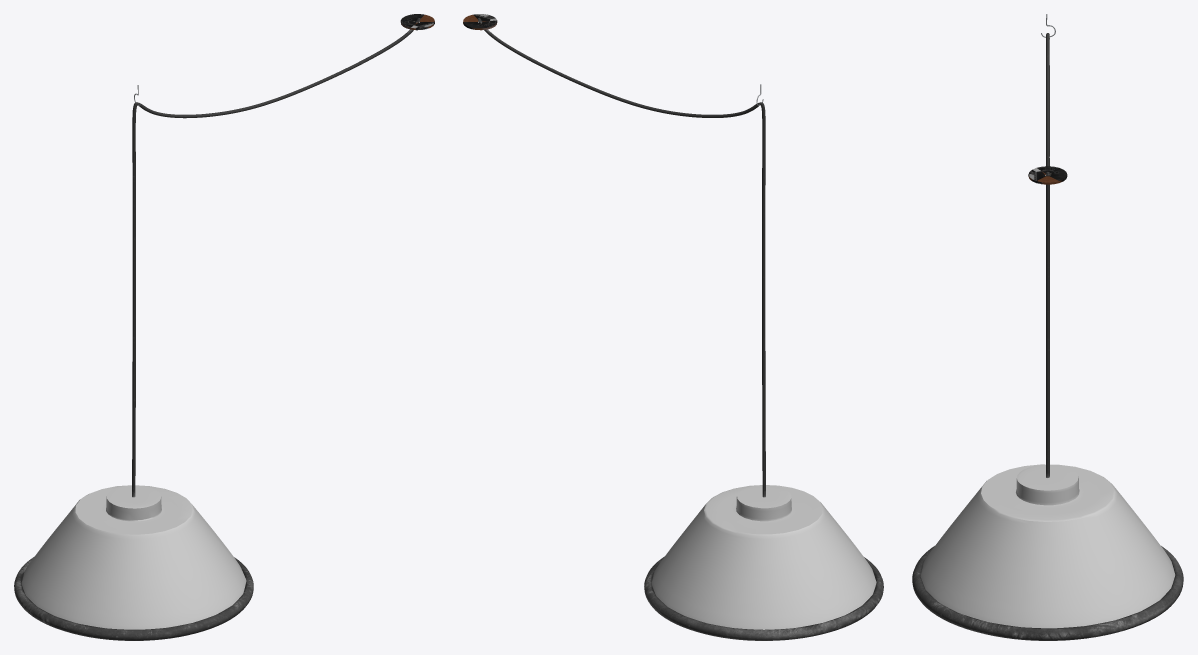
3 views of the same model, side by side, from view 1: azimuth 30°, elevation 25°; view 2: azimuth 150°, elevation 25°; view 3: azimuth 270°, elevation 25° (orthographic). The views are drawn at different scales.
Visible parts, largest first — view 1: Lamp_Blockout_v1:pCylinder6, Lamp_Blockout_v1:pTorus1, Lamp_Blockout_v1:pCylinder3; view 2: Lamp_Blockout_v1:pCylinder6, Lamp_Blockout_v1:pTorus1, Lamp_Blockout_v1:pCylinder3; view 3: Lamp_Blockout_v1:pCylinder6, Lamp_Blockout_v1:pTorus1, Lamp_Blockout_v1:pCylinder3, Lamp_Blockout_v1:pCylinder5.
Part boxes in pixels (x1,y1,x2,y2): Lamp_Blockout_v1:pCylinder6: [21, 485, 246, 629]; Lamp_Blockout_v1:pTorus1: [14, 557, 253, 640]; Lamp_Blockout_v1:pCylinder3: [132, 18, 420, 497]; Lamp_Blockout_v1:pCylinder6: [651, 485, 876, 629]; Lamp_Blockout_v1:pTorus1: [644, 556, 883, 640]; Lamp_Blockout_v1:pCylinder3: [477, 17, 765, 497]; Lamp_Blockout_v1:pCylinder6: [920, 464, 1175, 628]; Lamp_Blockout_v1:pTorus1: [912, 546, 1183, 640]; Lamp_Blockout_v1:pCylinder3: [1046, 33, 1049, 477]; Lamp_Blockout_v1:pCylinder5: [1028, 166, 1067, 184].
Bounding box in the file's own units: 3.81 × 4.58 × 1.96.
